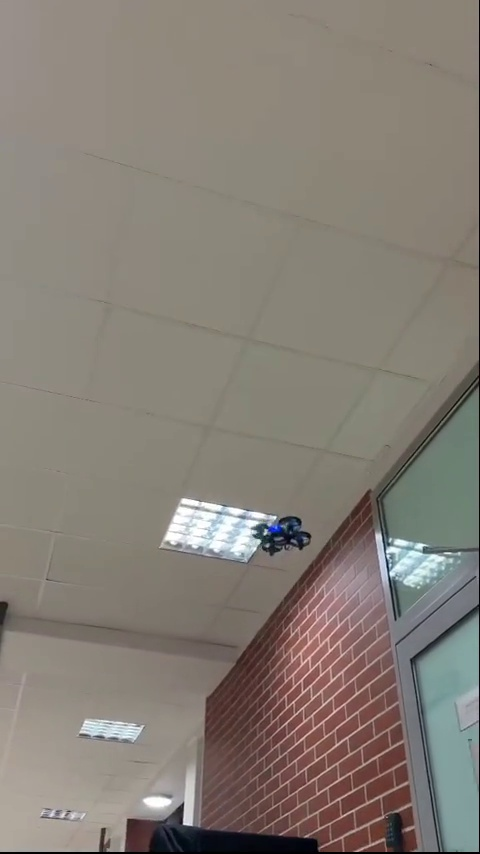drone: (260, 518, 309, 559)
